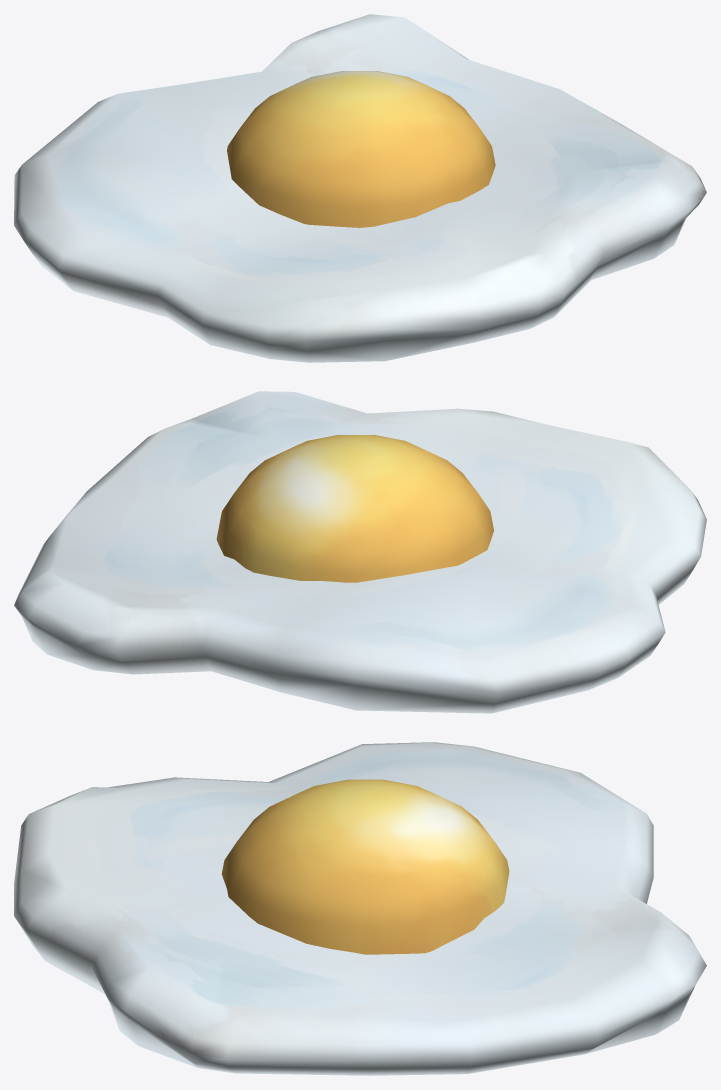
The model's file is egg.fbx.
3 views of the same model, one above another, from view 1: azimuth 30°, elevation 25°; view 2: azimuth 150°, elevation 25°; view 3: azimuth 270°, elevation 25° (orthographic). The views are drawn at different scales.
Visible parts, largest first — view 1: pCube1, pSphere1; view 2: pCube1, pSphere1; view 3: pCube1, pSphere1.
Boxes of the visible parts, x1,y1,x2,y2 form: pCube1: (14,14,706,362); pSphere1: (227,71,495,227); pCube1: (14,391,706,713); pSphere1: (216,435,493,582); pCube1: (14,742,706,1075); pSphere1: (221,779,509,954).
Bounding box in the file's own units: 8.28 × 2.07 × 8.03.
